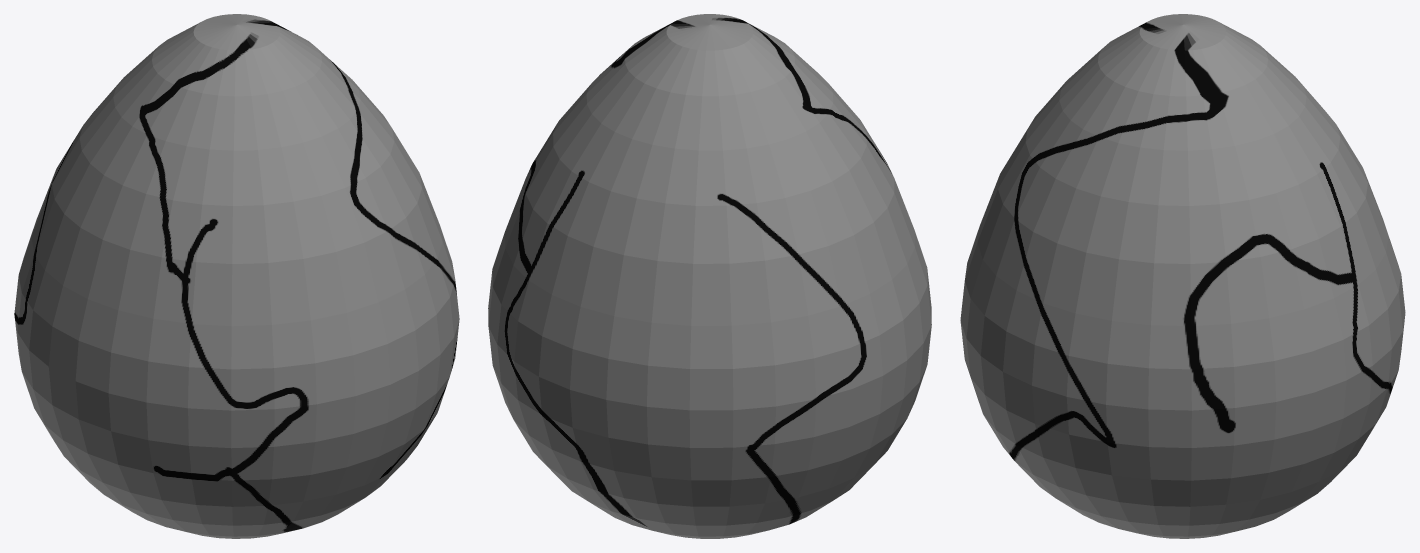
The model's file is ovo.fbx.
The picture shows the model from 3 angles, left to right: view 1: azimuth 30°, elevation 25°; view 2: azimuth 150°, elevation 25°; view 3: azimuth 270°, elevation 25°; orthographic projection.
Visible parts, largest first — view 1: Sphere; view 2: Sphere; view 3: Sphere.
Part boxes in pixels (box(x1,y1,x2,y2)): Sphere: box(14, 14, 459, 538); Sphere: box(488, 14, 931, 538); Sphere: box(960, 14, 1405, 538).
Size of the model in its own units: 200 by 245 by 200.
